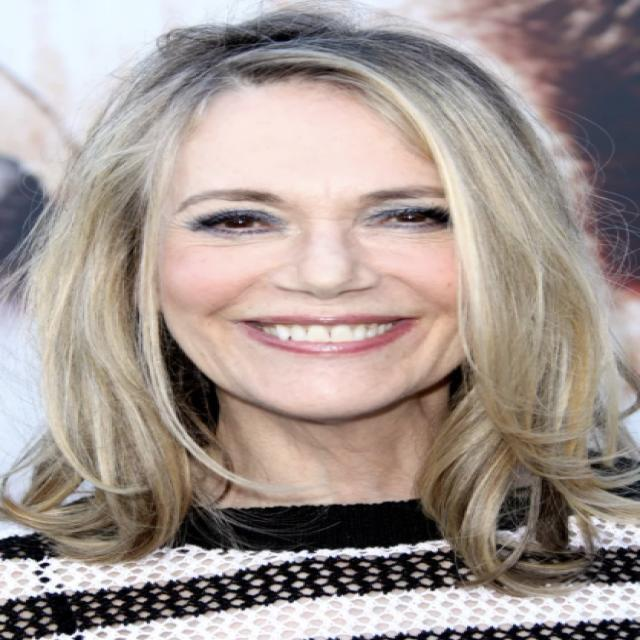happy: (71, 47, 525, 407)
